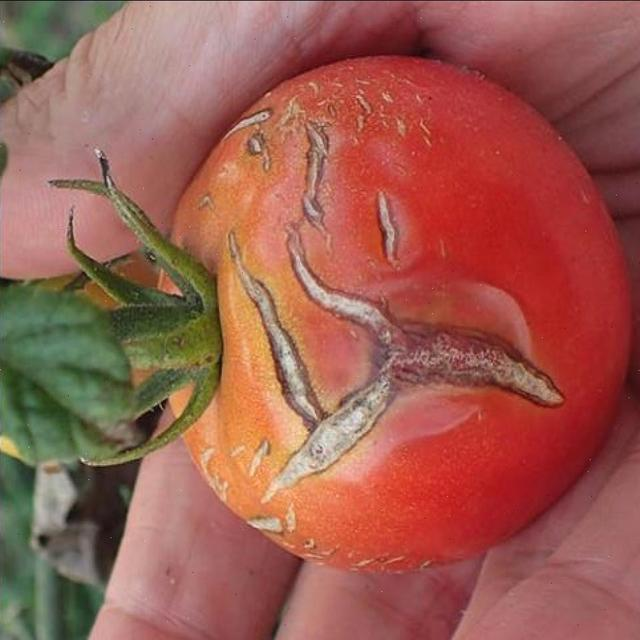Cracking Fruit: (149, 120, 397, 342)
